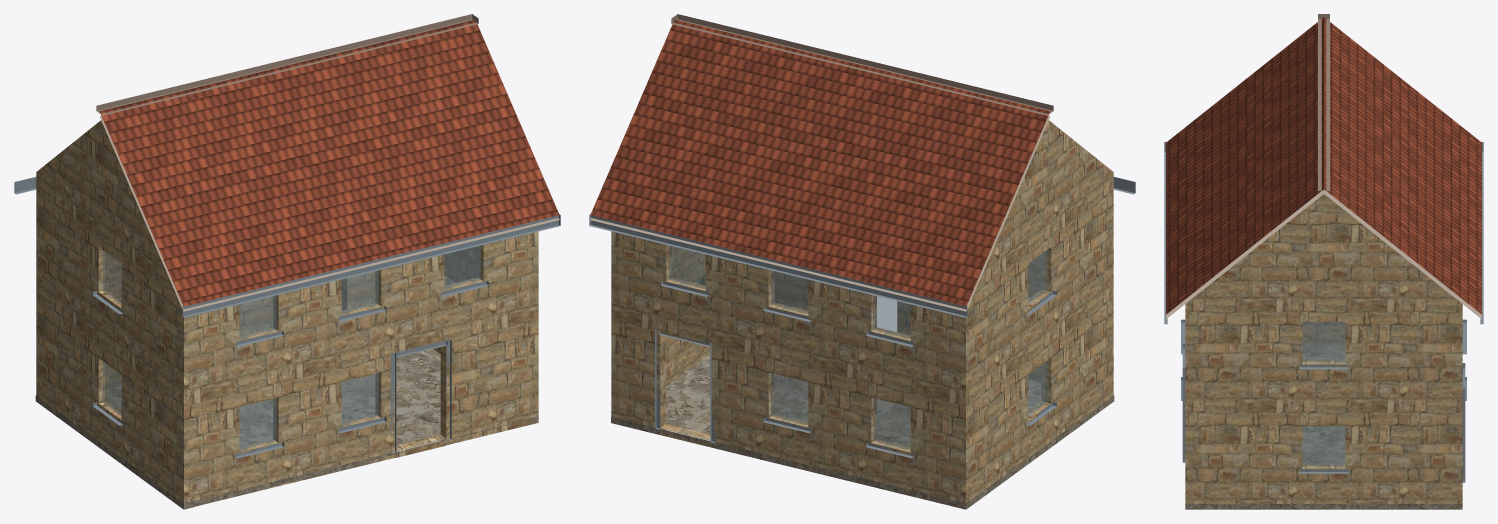
File: cottage-stone.zfix-v5.lod1.glb
The picture shows the model from 3 angles, left to right: view 1: azimuth 30°, elevation 25°; view 2: azimuth 150°, elevation 25°; view 3: azimuth 270°, elevation 25°; orthographic projection. The views are drawn at different scales.
Visible parts, largest first — view 1: cottage-stone; view 2: cottage-stone; view 3: cottage-stone.
Boxes of the visible parts, x1=… form: cottage-stone: x1=14, y1=14, x2=560, y2=509; cottage-stone: x1=589, y1=14, x2=1135, y2=509; cottage-stone: x1=1164, y1=14, x2=1483, y2=509.
Size of the model in its own units: 9.54 by 8.5 by 7.48.
5 materials, 3 textured.
